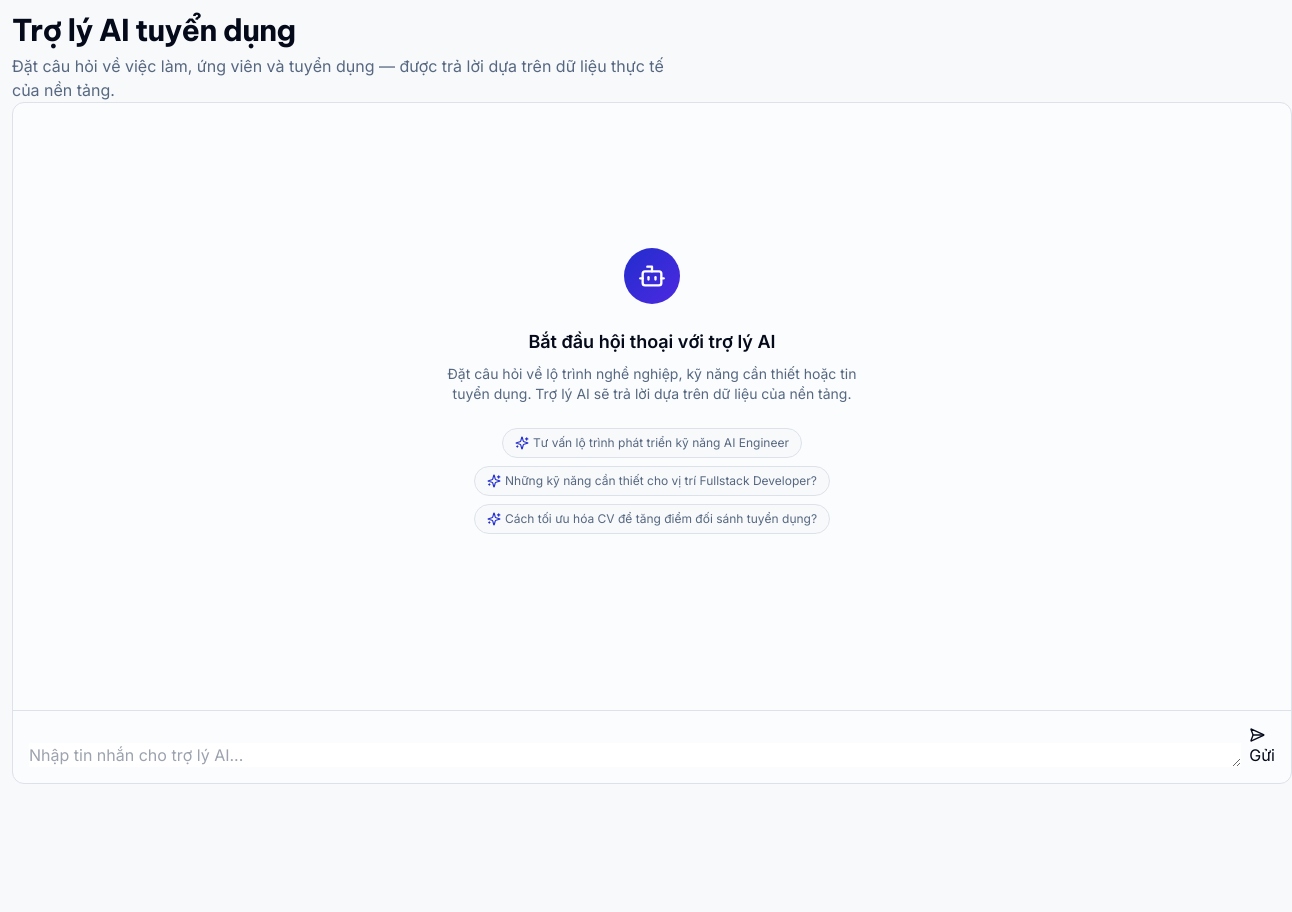
AIChatPage › renders the user message and AI response
(page scrolled)
In the text box named "Tin nhắn chat": (635, 755) [29, 743, 1241, 767], type "Câu hỏi gì đó"
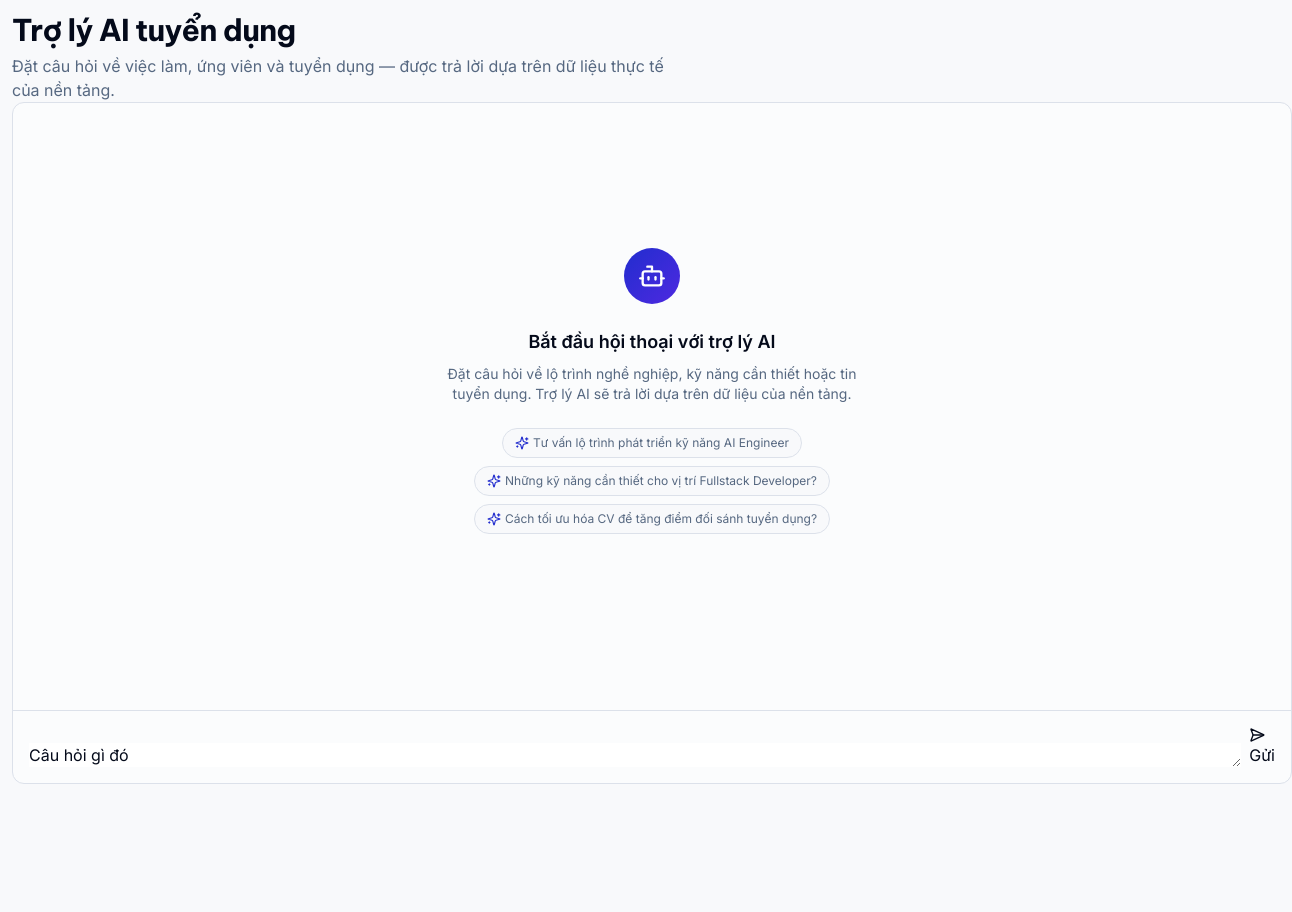
Click the button "Gửi": (1262, 747) [1249, 727, 1275, 767]
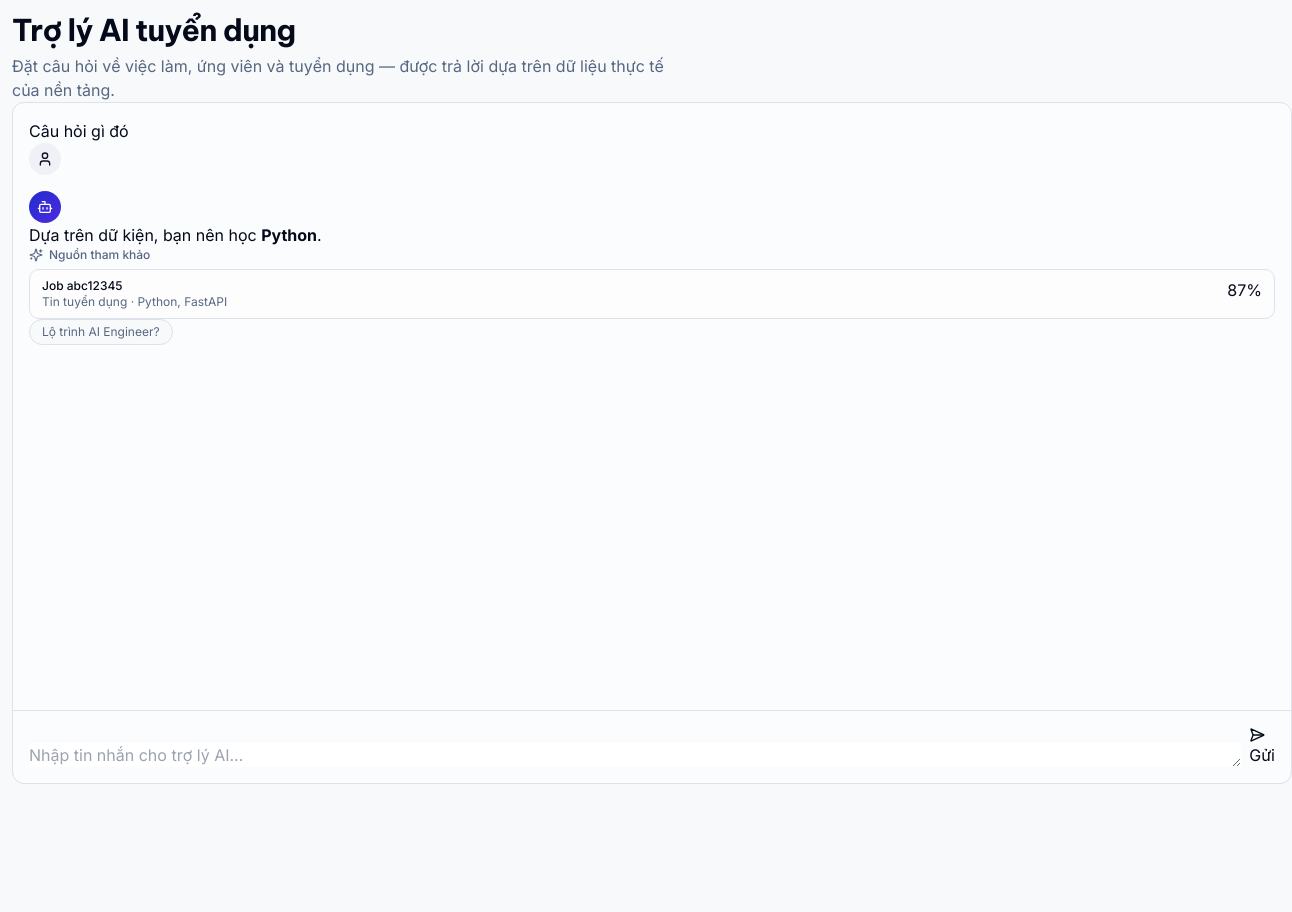
Expected: the text "Câu hỏi gì đó" is shown, [29, 121, 129, 141]
Expected: the text "Python" is shown, [261, 225, 317, 245]
